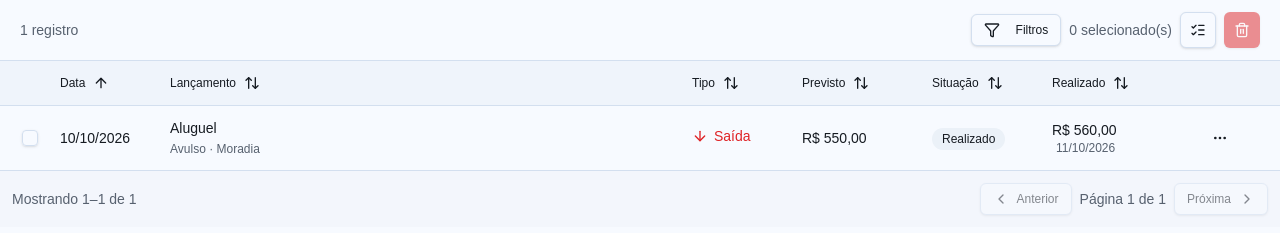
Test: FinancialEntriesTable › uses compact accessible icon actions with tooltips for month selection
Hover over the button named "Selecionar todos os lançamentos avulsos do mês": point(1198, 30) [1180,12,1216,48]
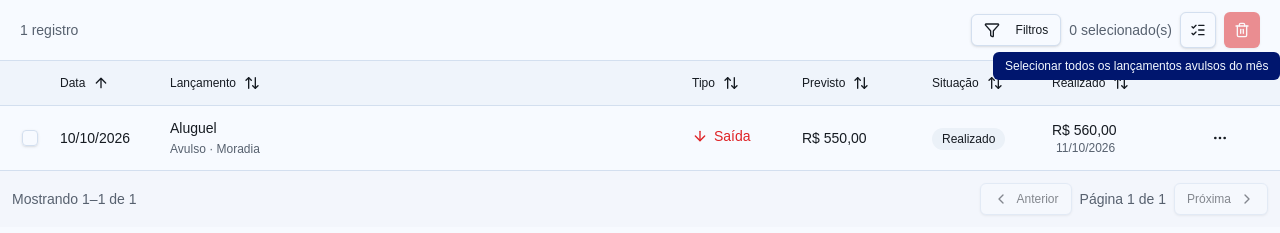
Expected: the button named "Excluir selecionados (0)" is empty, [1224,12,1260,48]
Now the tooltip "Selecionar todos os lançamentos avulsos do mês" is shown, box [993,52,1279,80]
